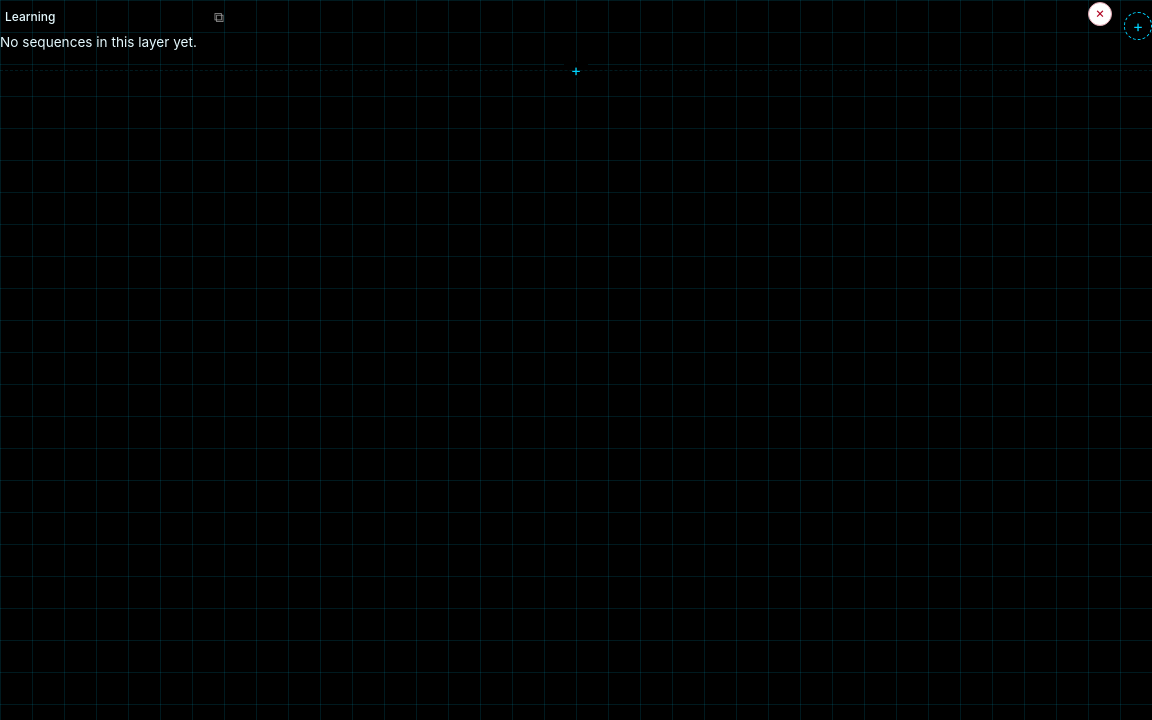
LayerRow import › keeps the dialog open with the error when the import is rejected
Right-click the button named "Add a layer below Learning" at (576, 70), box x1=0 y1=58 x2=1151 y2=82
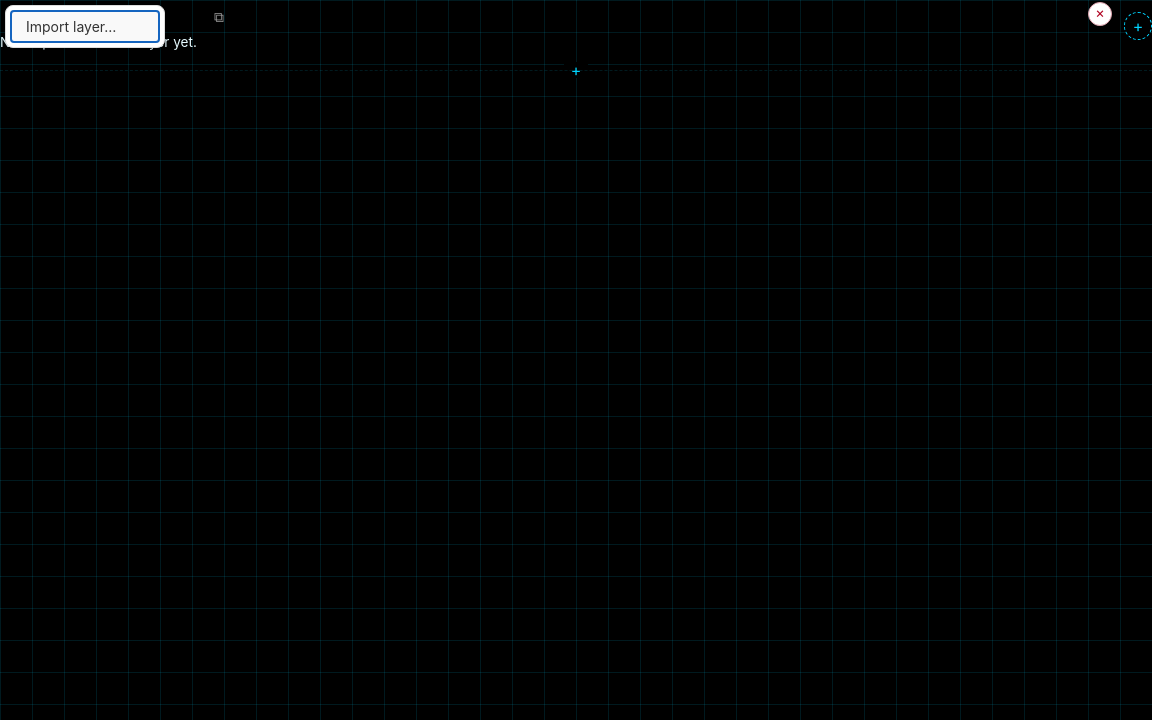
Click the menu item "Import layer…". click: (85, 26)
box: x1=10 y1=10 x2=160 y2=43
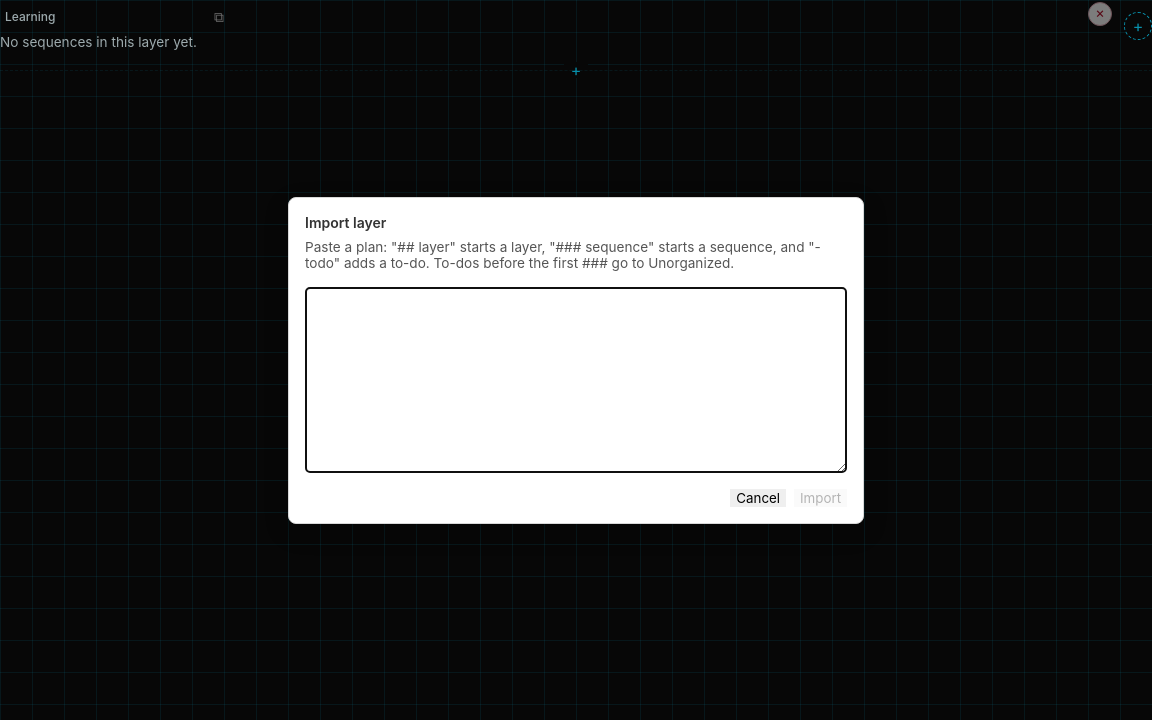
Type "## A" into the text box named "Schema". click: (576, 380)
box: x1=305 y1=286 x2=847 y2=472
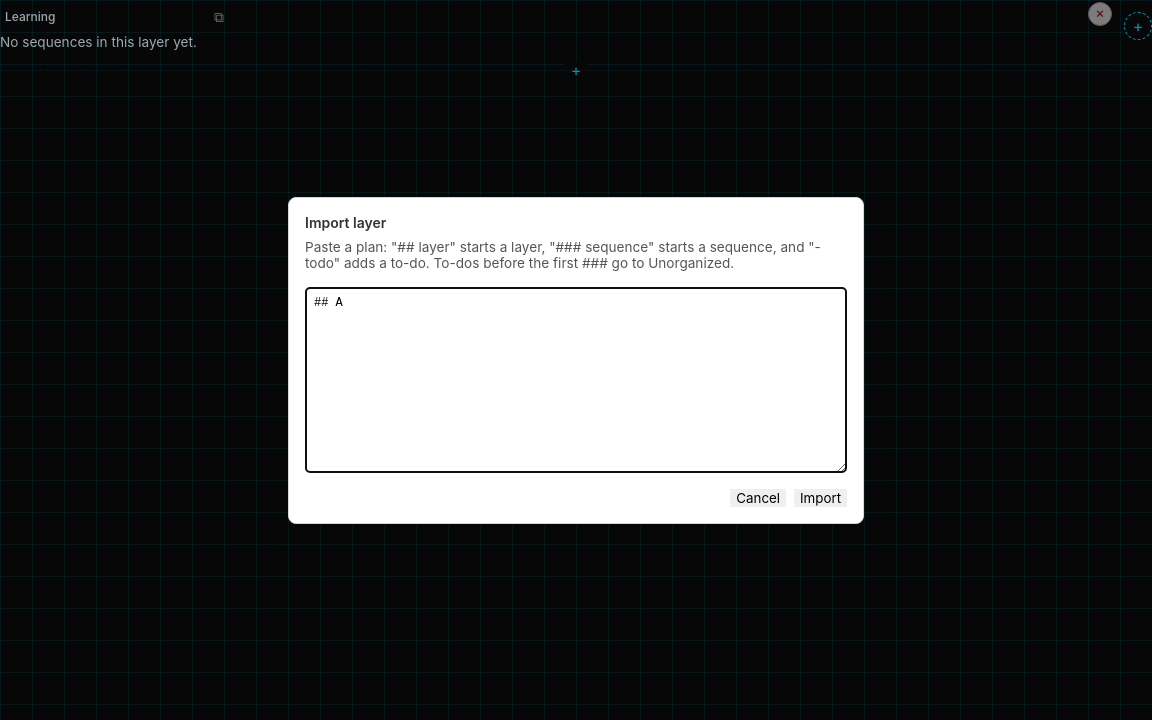
Click the button "Import". click: (820, 498)
box: x1=794 y1=488 x2=847 y2=506
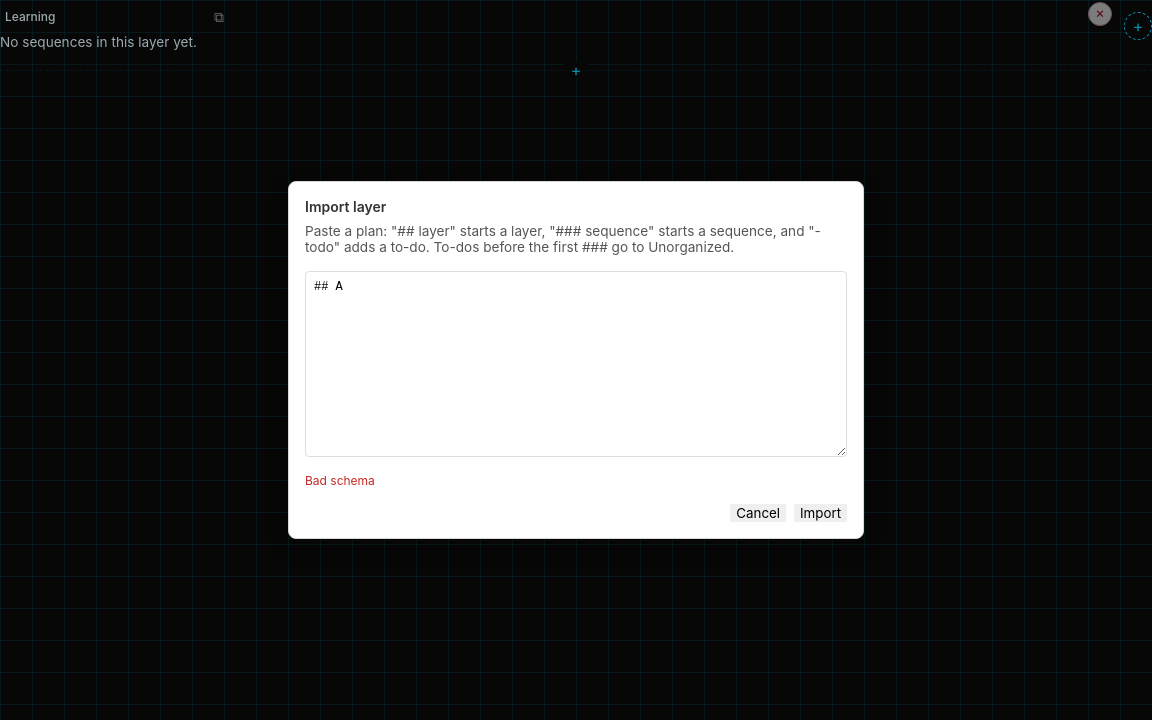
Result: the dialog is shown at x1=288 y1=181 x2=864 y2=539
Result: the message reads "Bad schema" at x1=305 y1=473 x2=375 y2=488
